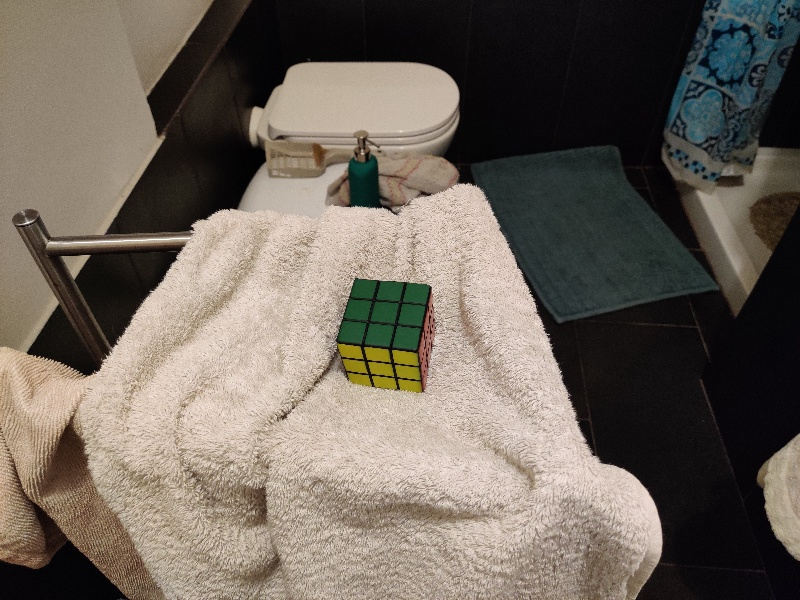rubik: (337, 278, 439, 393)
